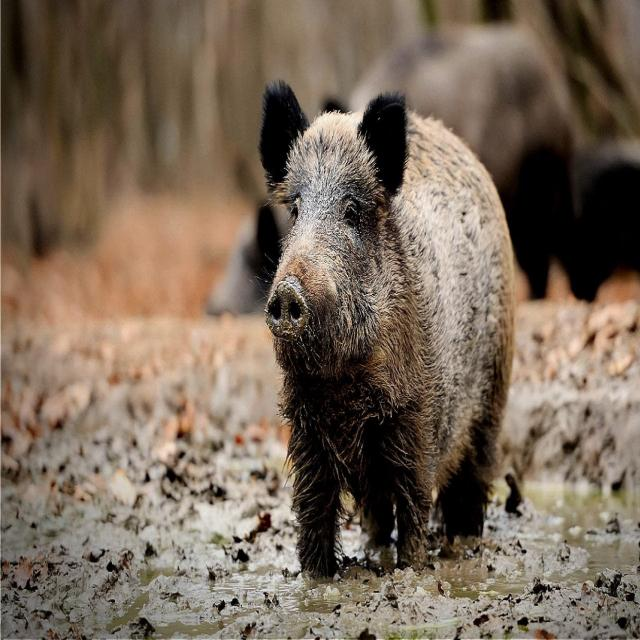Boar: (253, 78, 517, 565)
